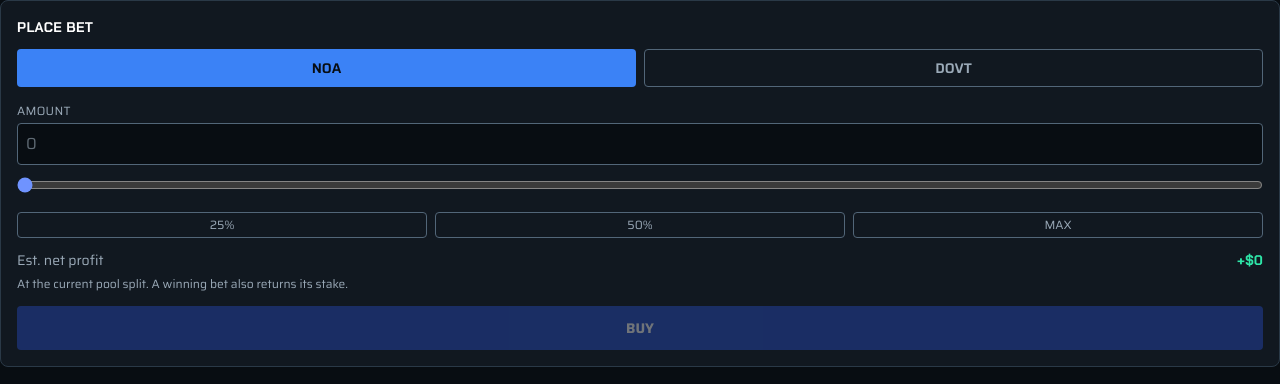
it: BetPanel › shows a live net-profit estimate that updates with the amount
This screenshot has width=1280, height=384.
Type "1000" into the number field labelled "Amount". click: point(640, 144)
box: [17,123,1263,165]
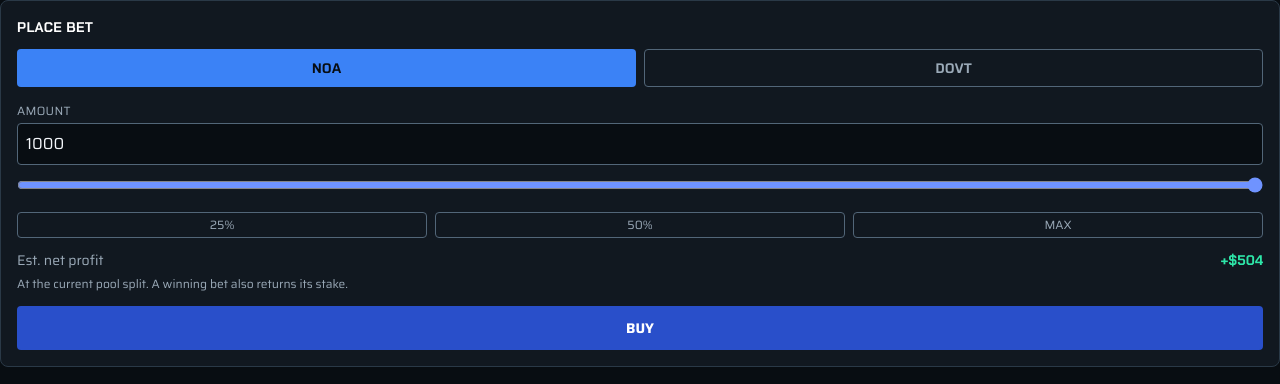
Expected: the element with test id "payout" shows "504", [1228,251,1263,269]
